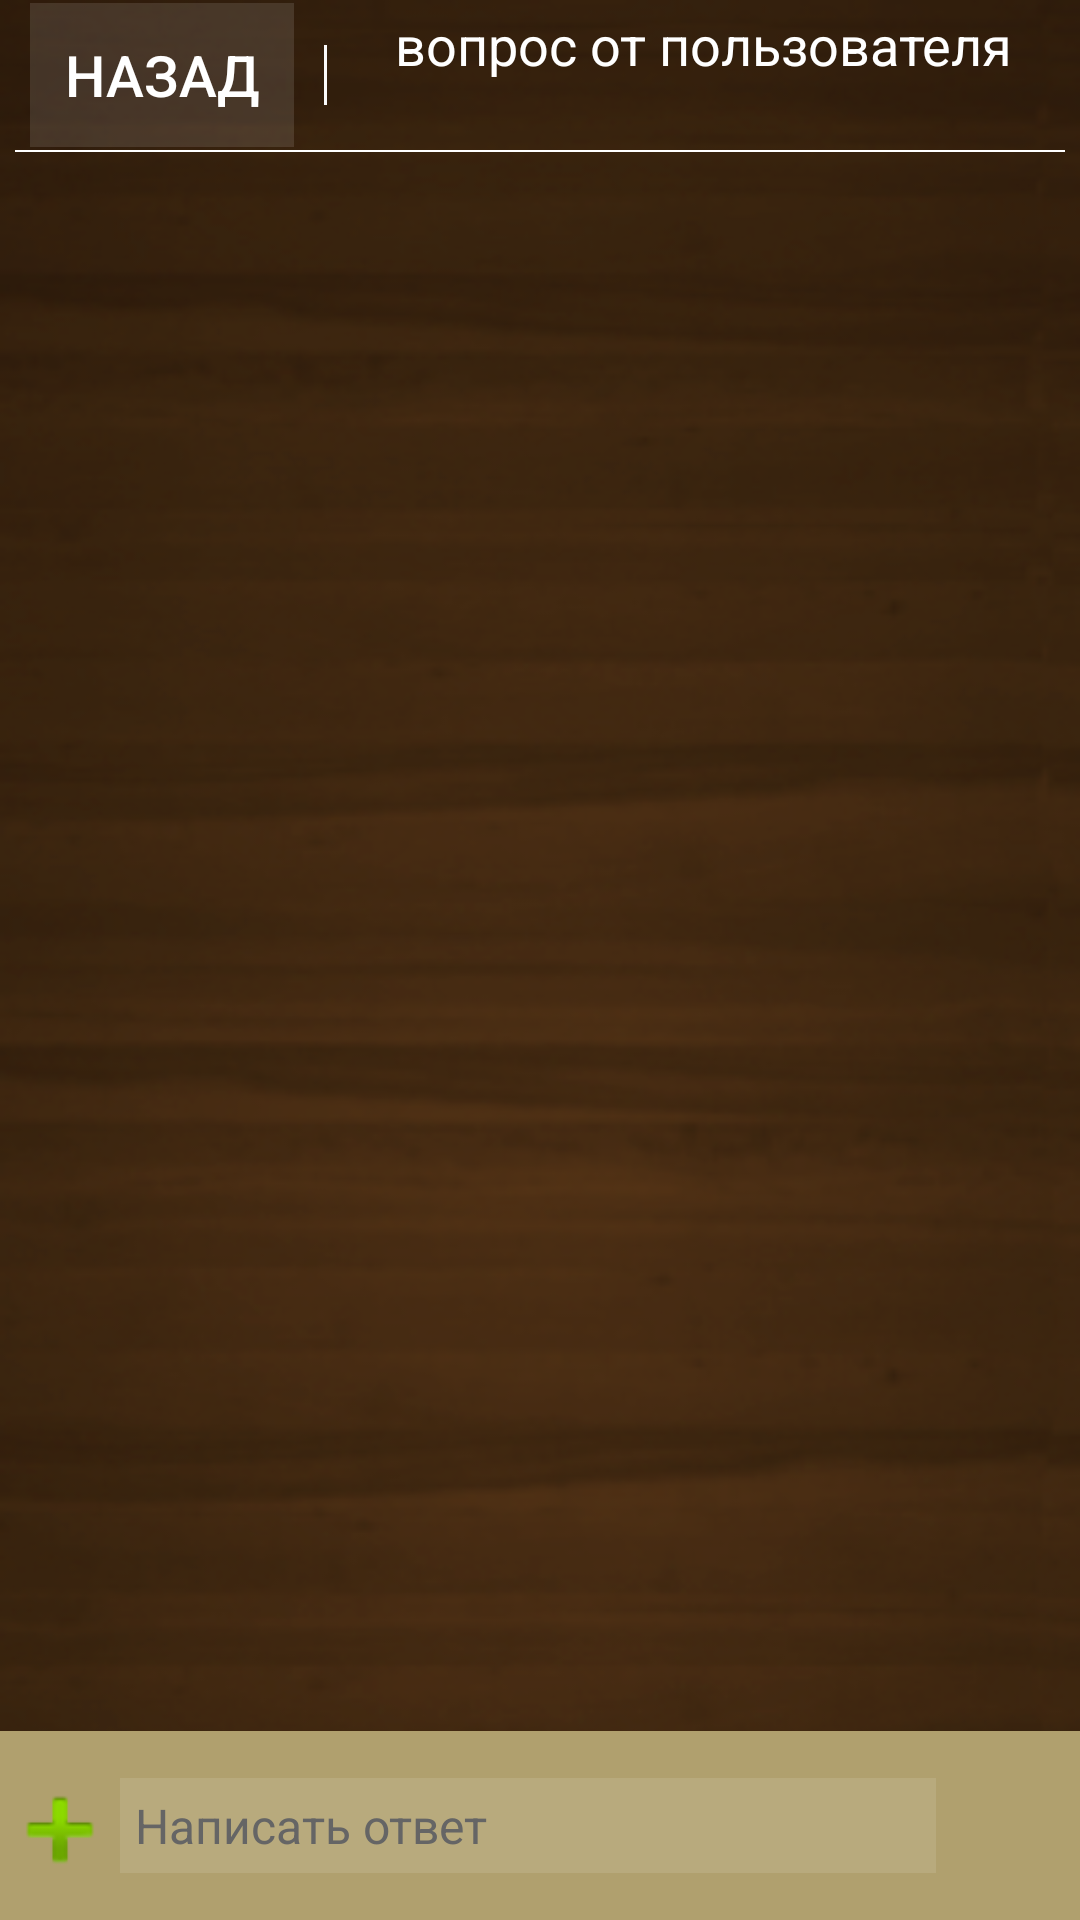

Named icons in this screenshot (1080w x 1920h) and their bounding boxes, (x1, y1, x2, y2):
add: (26, 1797, 94, 1863)
